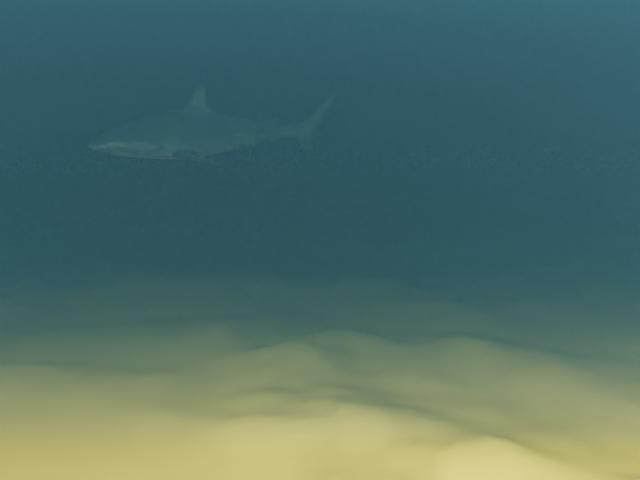Carribean Shark.001: (87, 81, 337, 166)
